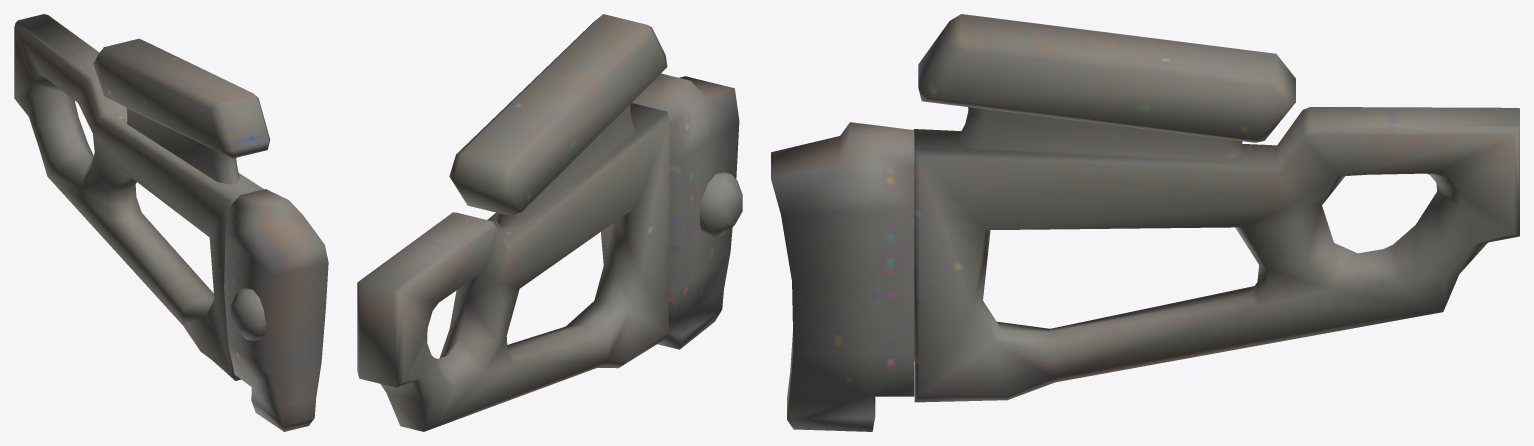
File: stock4.obj
The picture shows the model from 3 angles, left to right: view 1: azimuth 30°, elevation 25°; view 2: azimuth 150°, elevation 25°; view 3: azimuth 270°, elevation 25°; orthographic projection. The views are drawn at different scales.
Parts seen in each view (by area): view 1: stock4; view 2: stock4; view 3: stock4.
Boxes of the visible parts, <box> form: stock4: <box>14,14,328,431</box>; stock4: <box>357,14,742,431</box>; stock4: <box>771,14,1519,431</box>.
Size of the model in its own units: 5.27 by 19.99 by 34.1.
